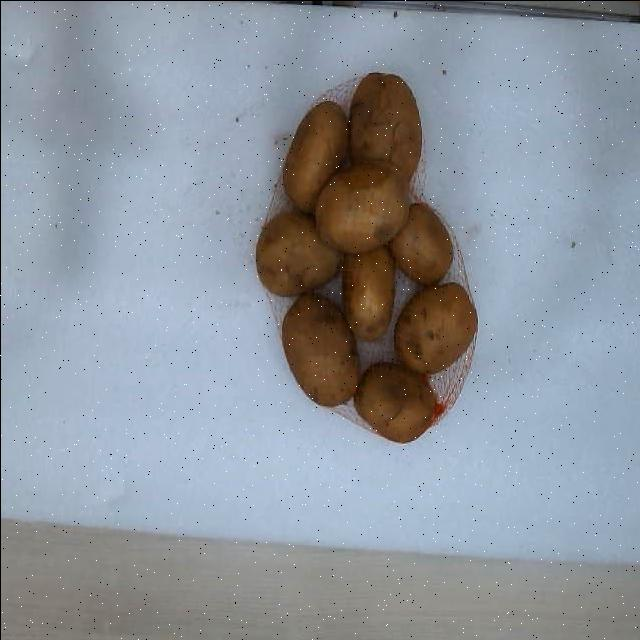potato: (281, 292, 359, 407), (314, 162, 406, 253), (351, 72, 421, 180), (394, 282, 476, 373), (282, 102, 348, 212), (256, 212, 340, 295), (352, 362, 435, 442), (342, 246, 394, 342), (390, 204, 451, 282)
